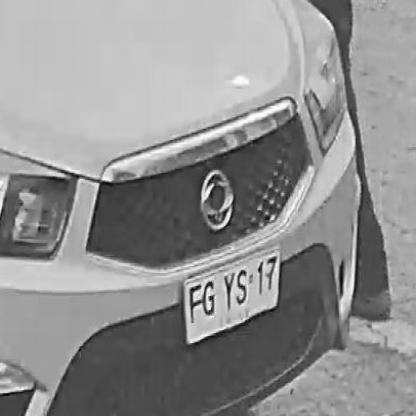Patente: (183, 247, 283, 349)
